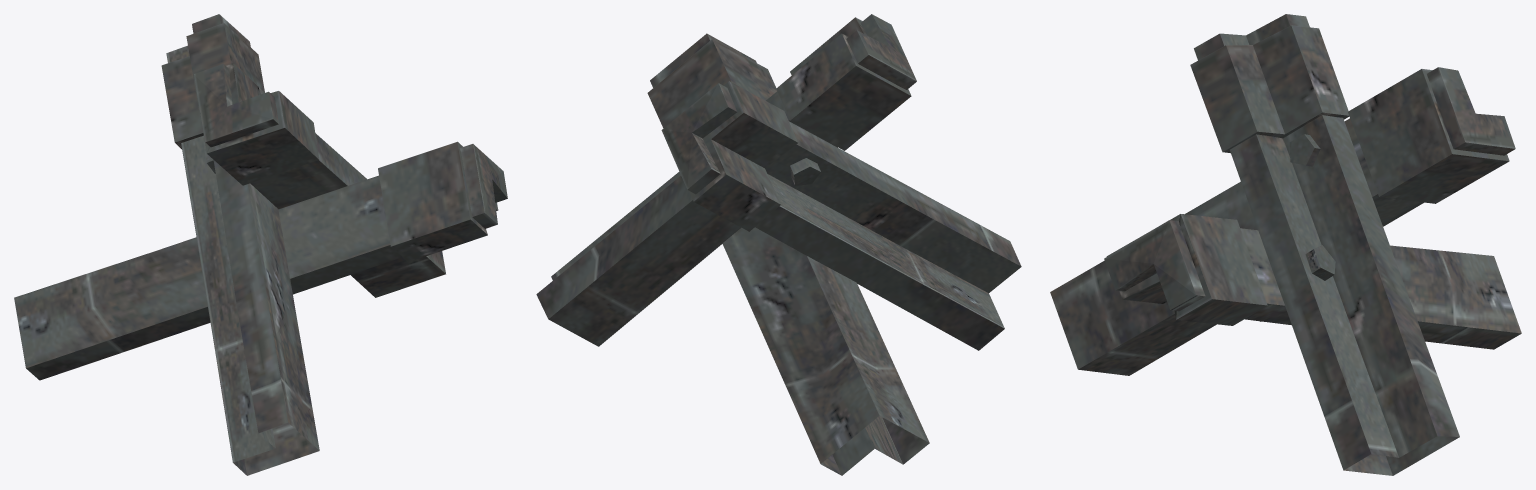
The model's file is C4SMTANKCROSSH.obj.
The picture shows the model from 3 angles, left to right: view 1: azimuth 30°, elevation 25°; view 2: azimuth 150°, elevation 25°; view 3: azimuth 270°, elevation 25°; orthographic projection. The views are drawn at different scales.
Parts seen in each view (by area): view 1: Node 0; view 2: Node 0; view 3: Node 0.
Boxes of the visible parts, left/top/right/bottom form: Node 0: left=14, top=14, right=507, bottom=475; Node 0: left=536, top=14, right=1021, bottom=475; Node 0: left=1050, top=14, right=1521, bottom=475.
Size of the model in its own units: 5.74 by 4.91 by 5.42.
Materials: 1 (1 with a texture image).
